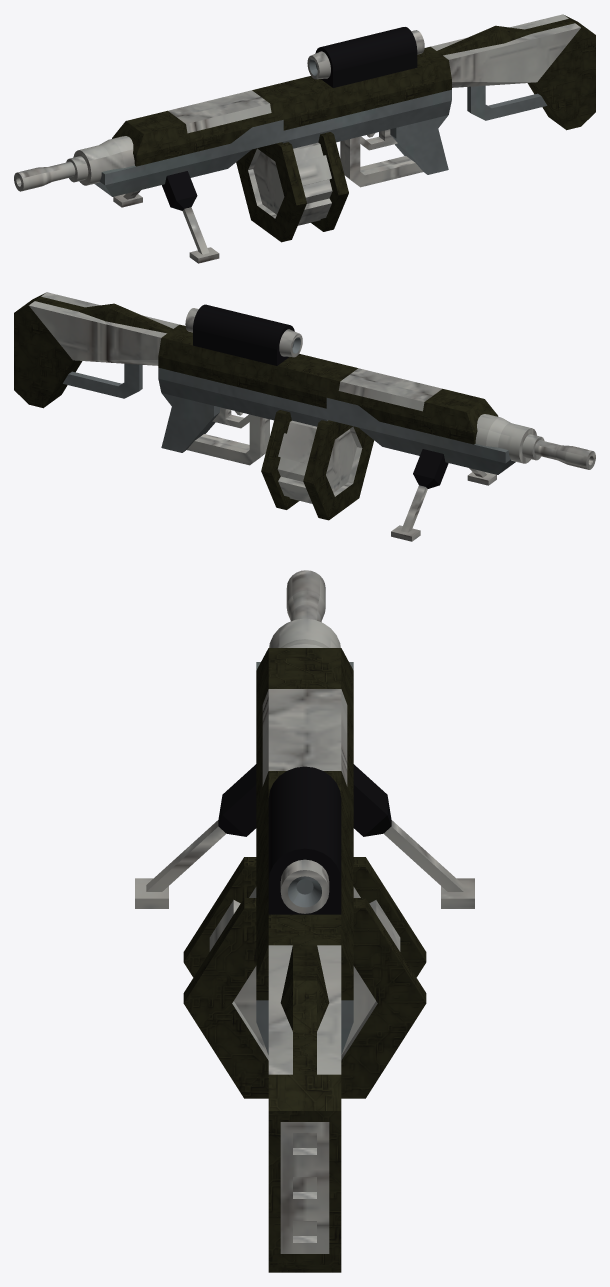
The model's file is MachineGun.glb.
The picture shows the model from 3 angles, top to bottom: view 1: azimuth 30°, elevation 25°; view 2: azimuth 150°, elevation 25°; view 3: azimuth 270°, elevation 25°; orthographic projection. The views are drawn at different scales.
Parts seen in each view (by area): view 1: stock_assault, mediumBlaster_handleGuard, clipBarrel, mediumBlaster_barrelLarge, mediumBlaster_centerDetail, scope_small, mediumBlaster_center, landing_telescope% (×2), attachment_barrelEnd; view 2: stock_assault, mediumBlaster_handleGuard, clipBarrel, mediumBlaster_centerDetail, mediumBlaster_barrelLarge, scope_small, mediumBlaster_center, landing_telescope% (×2), attachment_barrelEnd; view 3: clipBarrel, stock_assault, scope_small, mediumBlaster_centerDetail, landing_telescope% (×2), mediumBlaster_handleGuard, mediumBlaster_barrelLarge, attachment_barrelEnd, mediumBlaster_center.
Boxes of the visible parts, <box> form: stock_assault: <box>431,14,595,130</box>; mediumBlaster_handleGuard: <box>340,46,451,187</box>; clipBarrel: <box>236,132,348,242</box>; mediumBlaster_barrelLarge: <box>66,110,188,196</box>; mediumBlaster_centerDetail: <box>158,87,283,177</box>; scope_small: <box>307,27,424,87</box>; mediumBlaster_center: <box>263,76,346,148</box>; landing_telescope% (×2): <box>113,171,219,263</box>; attachment_barrelEnd: <box>14,161,75,191</box>; stock_assault: <box>14,292,179,408</box>; mediumBlaster_handleGuard: <box>158,324,269,465</box>; clipBarrel: <box>261,410,373,520</box>; mediumBlaster_centerDetail: <box>326,365,452,455</box>; mediumBlaster_barrelLarge: <box>421,389,544,474</box>; scope_small: <box>185,304,302,365</box>; mediumBlaster_center: <box>263,353,347,426</box>; landing_telescope% (×2): <box>391,449,496,541</box>; attachment_barrelEnd: <box>534,440,595,469</box>; clipBarrel: <box>183,857,426,1098</box>; stock_assault: <box>268,945,341,1272</box>; scope_small: <box>268,766,341,914</box>; mediumBlaster_centerDetail: <box>256,678,353,813</box>; landing_telescope% (×2): <box>135,764,474,908</box>; mediumBlaster_handleGuard: <box>256,843,353,1054</box>; mediumBlaster_barrelLarge: <box>256,618,353,721</box>; attachment_barrelEnd: <box>286,570,325,622</box>; mediumBlaster_center: <box>256,781,353,875</box>.
Bounding box in the file's own units: 5.4 × 1.53 × 1.4.
24 materials, 21 textured.
